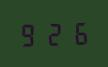nine: (18, 21, 40, 47)
six: (65, 19, 87, 45)
two: (42, 20, 64, 46)
